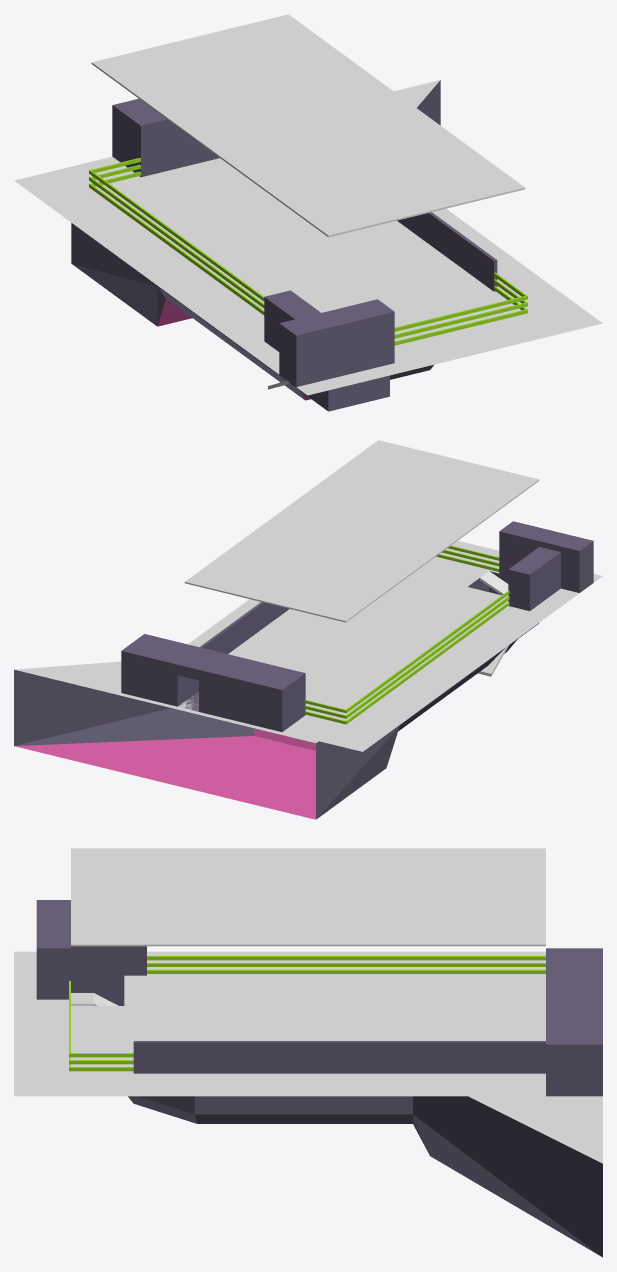
The model's file is arena_base.glb.
3 renders of one model, top to bottom at view 1: azimuth 30°, elevation 25°; view 2: azimuth 150°, elevation 25°; view 3: azimuth 270°, elevation 25°, orthographic. The views are drawn at different scales.
Parts seen in each view (by area): view 1: world1, roof-convcolonly.001, basement1-col; view 2: world1, roof-convcolonly.001, basement1-col; view 3: world1, roof-convcolonly.001, basement1-col.
Part boxes in pixels (box(x1,y1,x2,y2)): world1: box(14, 98, 602, 395); roof-convcolonly.001: box(91, 14, 525, 237); basement1-col: box(71, 80, 440, 411); world1: box(121, 521, 602, 751); roof-convcolonly.001: box(184, 440, 539, 622); basement1-col: box(14, 571, 539, 819); world1: box(14, 900, 602, 1096); roof-convcolonly.001: box(71, 848, 545, 946); basement1-col: box(71, 975, 602, 1257).
Size of what is drawn, in the model's own units: 260 by 130 by 310.
